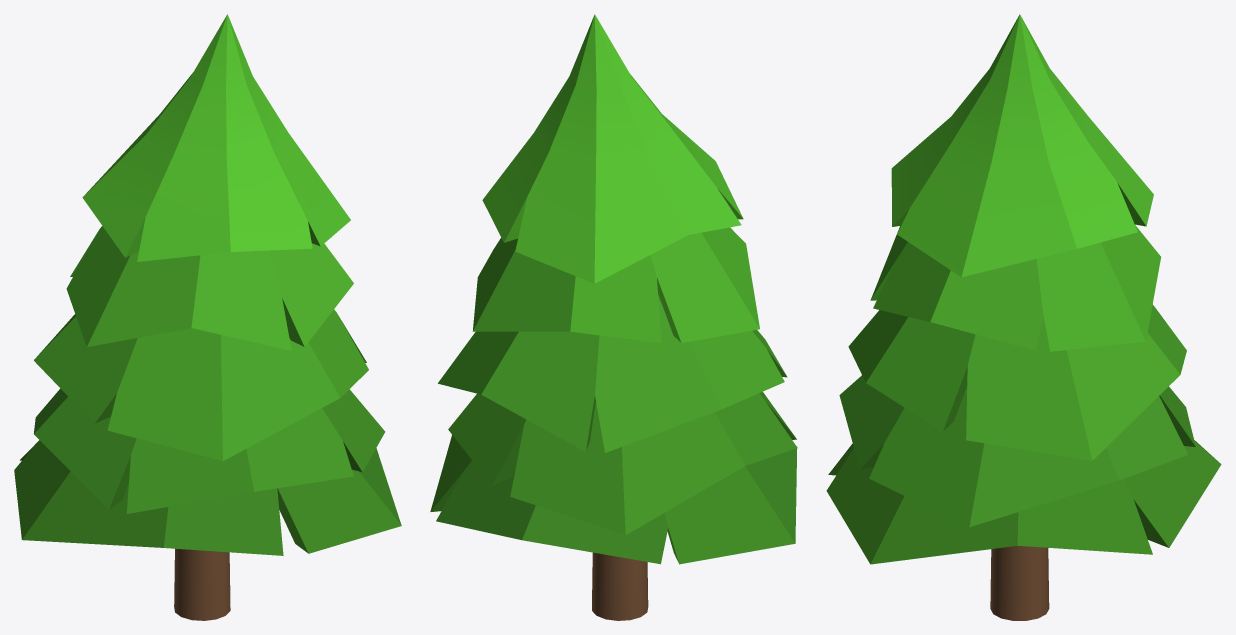
Rendered from Spruce_Green_Thick_1.fbx.
3 views of the same model, side by side, from view 1: azimuth 30°, elevation 25°; view 2: azimuth 150°, elevation 25°; view 3: azimuth 270°, elevation 25° (orthographic). The views are drawn at different scales.
Parts seen in each view (by area): view 1: Cylinder.328, Cylinder.329, Cylinder.330, Cylinder.332, Cylinder.331, Cylinder.333; view 2: Cylinder.328, Cylinder.329, Cylinder.331, Cylinder.330, Cylinder.332, Cylinder.333; view 3: Cylinder.328, Cylinder.329, Cylinder.331, Cylinder.330, Cylinder.332, Cylinder.333.
Part boxes in pixels (box(x1,y1,x2,y2)): Cylinder.328: box(82, 14, 350, 261); Cylinder.329: box(34, 309, 368, 461); Cylinder.330: box(66, 226, 353, 350); Cylinder.332: box(14, 440, 401, 555); Cylinder.331: box(34, 388, 385, 513); Cylinder.333: box(174, 548, 230, 620); Cylinder.328: box(482, 14, 743, 283); Cylinder.329: box(438, 294, 787, 452); Cylinder.331: box(448, 391, 797, 535); Cylinder.330: box(472, 227, 759, 343); Cylinder.332: box(430, 435, 797, 564); Cylinder.333: box(592, 552, 648, 620); Cylinder.328: box(891, 14, 1153, 277); Cylinder.329: box(848, 304, 1186, 460); Cylinder.331: box(839, 375, 1195, 527); Cylinder.330: box(870, 225, 1160, 351); Cylinder.332: box(826, 440, 1221, 564); Cylinder.333: box(990, 545, 1049, 620).
Bounding box in the file's own units: 347 × 567 × 334.
